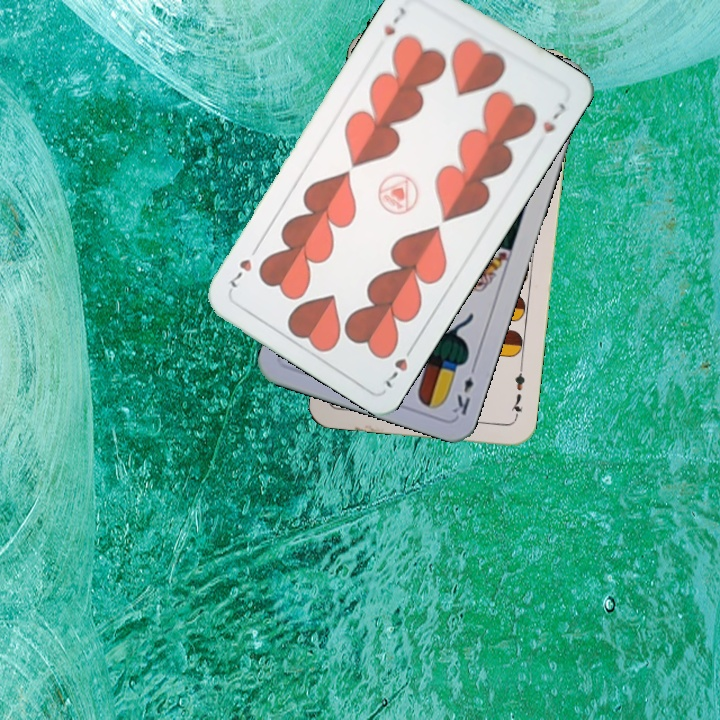E7: (506, 363, 528, 422)
EK: (448, 360, 479, 418)
H7: (381, 339, 418, 391), (379, 3, 409, 39)
